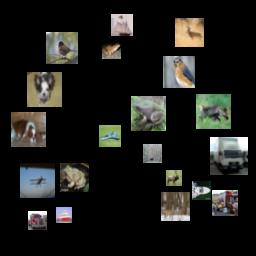airplane: (20, 163, 55, 198), (99, 125, 121, 147)
bird: (163, 56, 195, 88), (46, 32, 78, 64)
deer: (196, 94, 231, 129), (161, 192, 190, 221), (175, 18, 204, 47), (143, 144, 162, 163), (166, 170, 182, 186)
dog: (11, 112, 46, 147), (27, 72, 62, 107)
frog: (131, 96, 166, 131), (60, 163, 89, 192), (102, 40, 121, 59)
ship: (111, 14, 133, 36), (192, 181, 211, 200), (56, 207, 72, 223)
truck: (210, 137, 248, 175), (212, 190, 238, 216), (28, 211, 47, 230)
